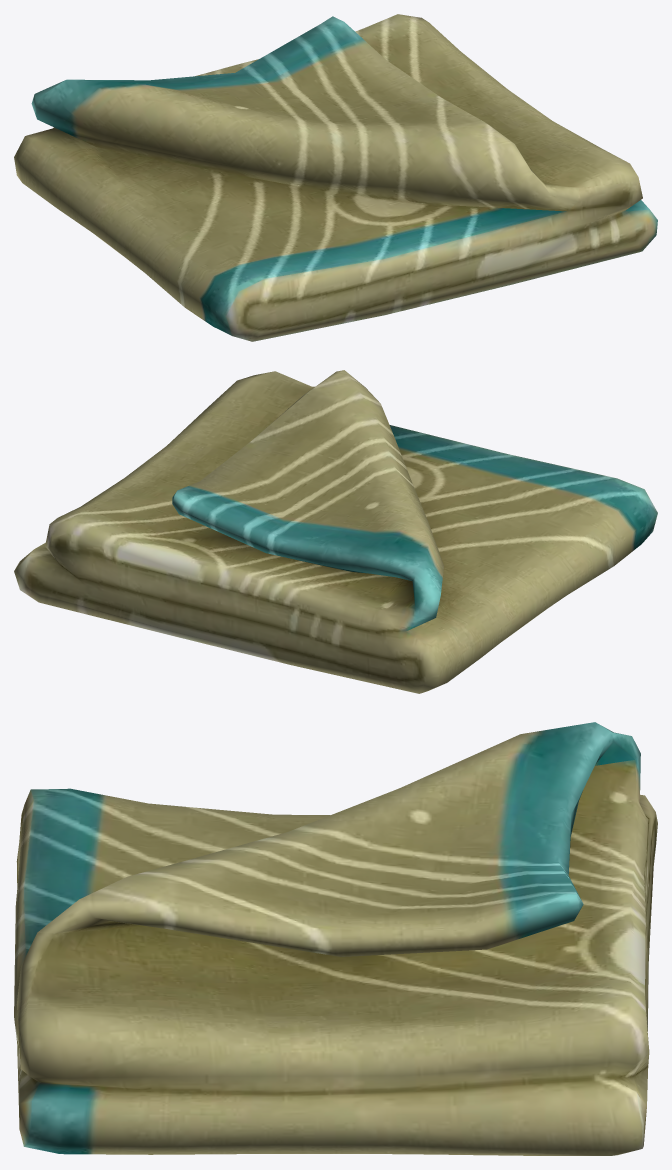
3 views of the same model, one above another, from view 1: azimuth 30°, elevation 25°; view 2: azimuth 150°, elevation 25°; view 3: azimuth 270°, elevation 25° (orthographic). The views are drawn at different scales.
Visible parts, largest first — view 1: SM_Guava_Weave_01_LOD0; view 2: SM_Guava_Weave_01_LOD0; view 3: SM_Guava_Weave_01_LOD0.
Boxes of the visible parts, left/top/right/bottom form: SM_Guava_Weave_01_LOD0: left=14, top=14, right=657, bottom=341; SM_Guava_Weave_01_LOD0: left=14, top=370, right=657, bottom=693; SM_Guava_Weave_01_LOD0: left=14, top=722, right=657, bottom=1155.
Bounding box in the file's own units: 0.5574 × 0.1525 × 0.4905.
1 material, 1 textured.
